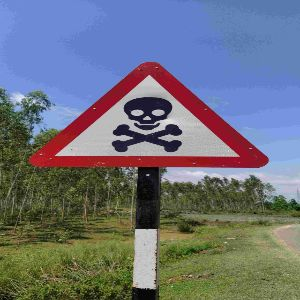Accident prone area: (24, 52, 286, 195)
